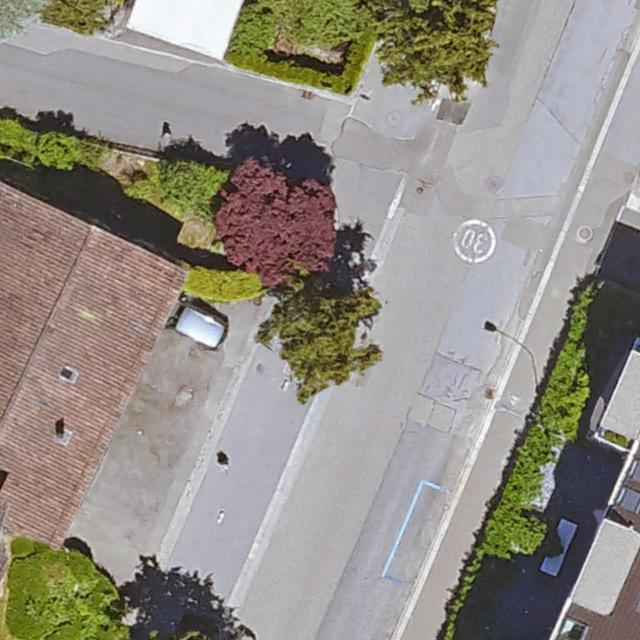tree: (219, 165, 337, 283), (378, 1, 494, 94), (274, 287, 379, 385), (258, 0, 367, 46), (158, 160, 219, 215), (43, 0, 135, 35), (31, 131, 83, 172)
